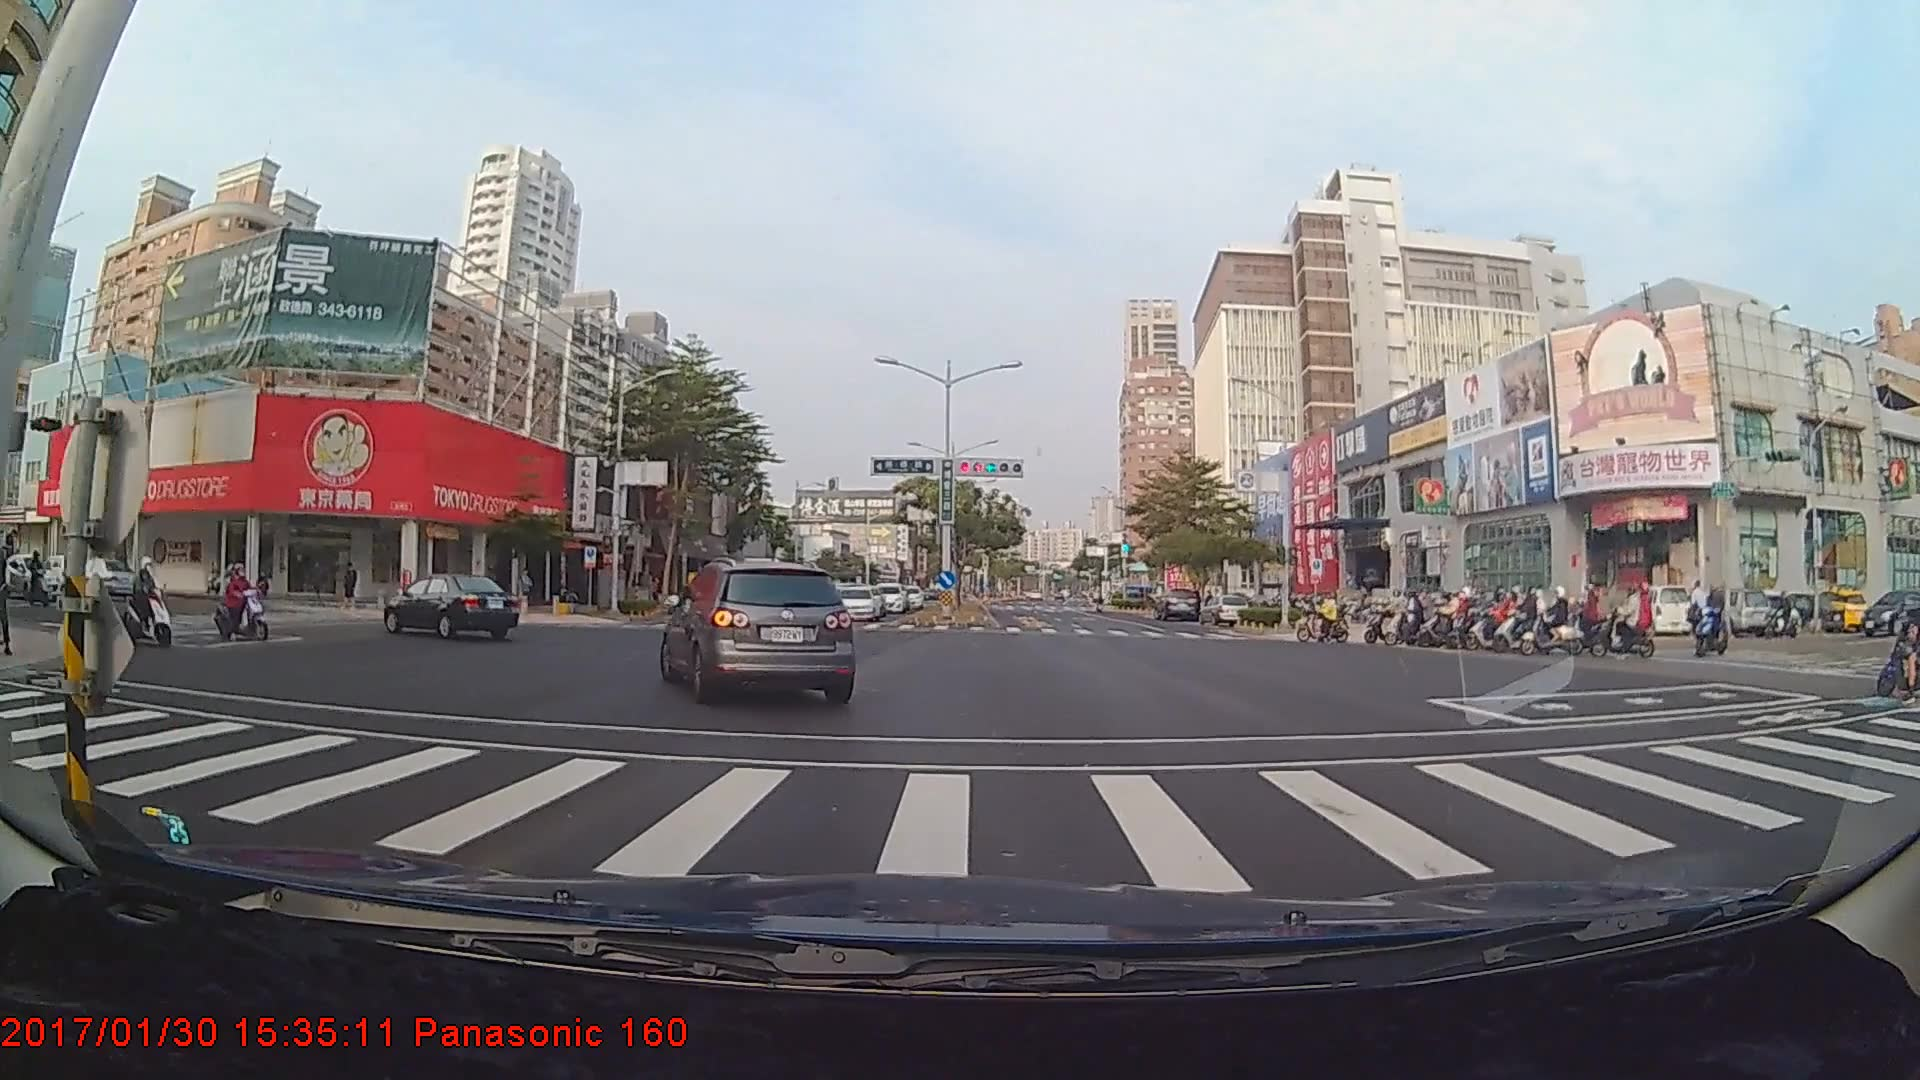rider: (1869, 563, 1920, 703), (1586, 578, 1657, 666), (211, 567, 274, 642), (1518, 586, 1584, 656), (1491, 589, 1552, 650), (1358, 591, 1423, 647), (1292, 586, 1350, 641), (1402, 590, 1456, 647), (1693, 590, 1734, 662), (675, 584, 701, 623)
vehicle: (663, 553, 858, 703), (384, 572, 521, 641), (62, 556, 143, 599), (829, 584, 881, 622), (1153, 586, 1200, 622), (870, 581, 909, 612)
